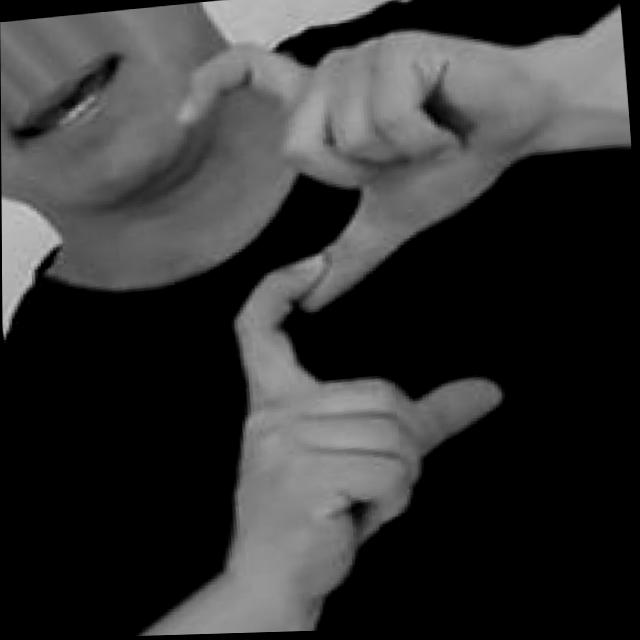S: (165, 15, 604, 594)
